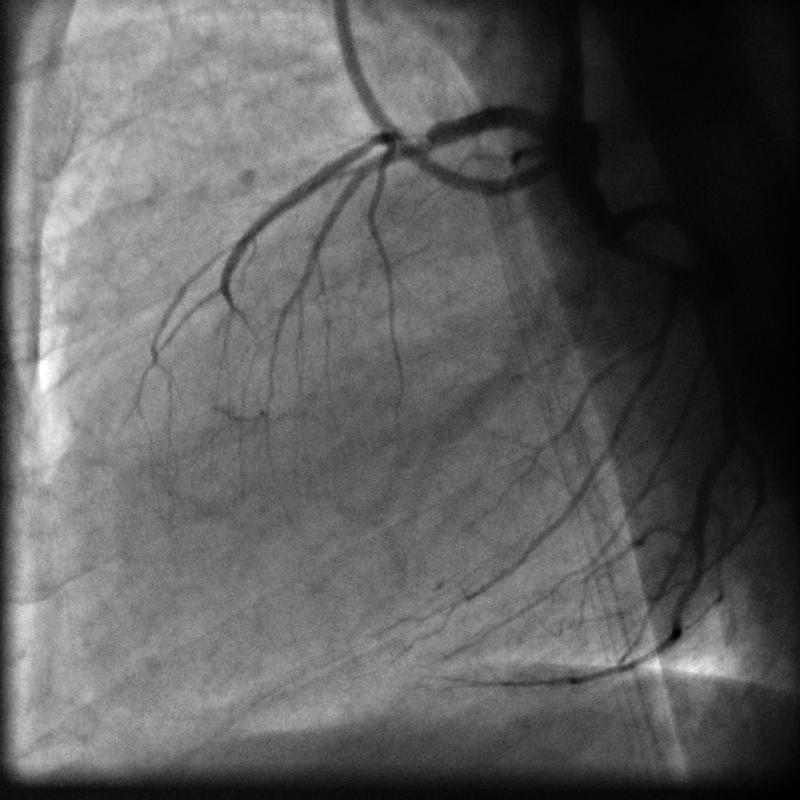Stenosis: (389, 119, 439, 168)
